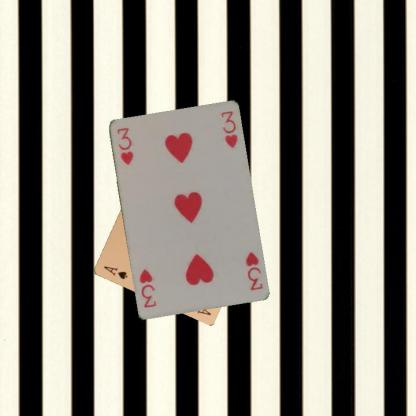3h: (243, 247, 264, 291), (113, 125, 134, 166)
As: (101, 263, 129, 281)
